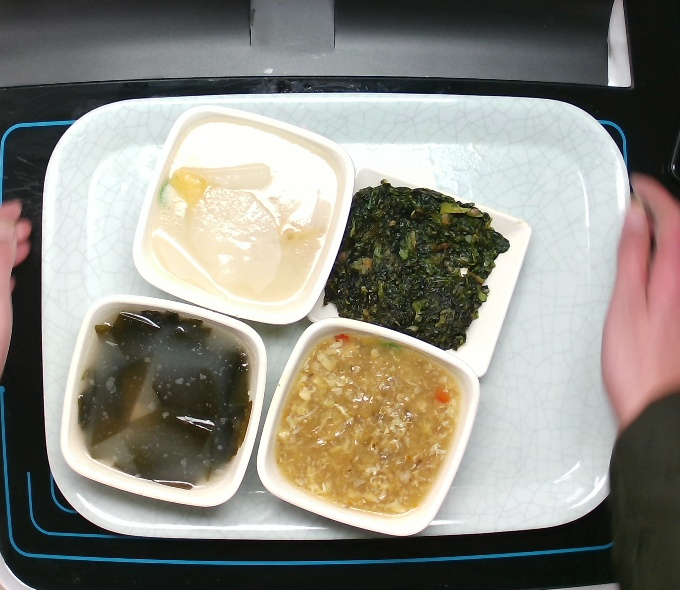wcq-HaiDaiPaiGuTang: (73, 306, 260, 502)
wcq-LuoBoYouPaoTang: (149, 118, 341, 309)
wcq-QinCaiBing: (311, 181, 511, 353)
wcq-SuanLaGeng: (267, 330, 469, 519)
